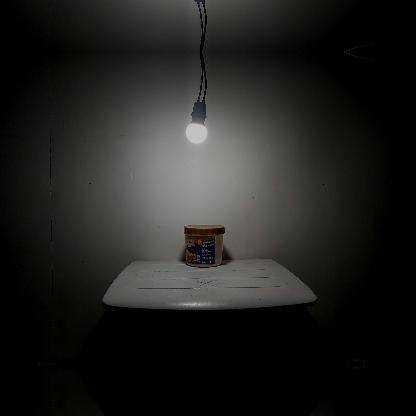Lady-s-Choice: (184, 224, 224, 266)
